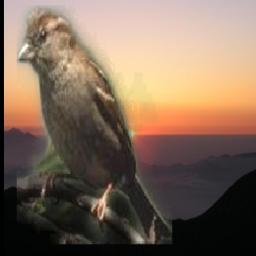Sparrow: (17, 5, 172, 244)
